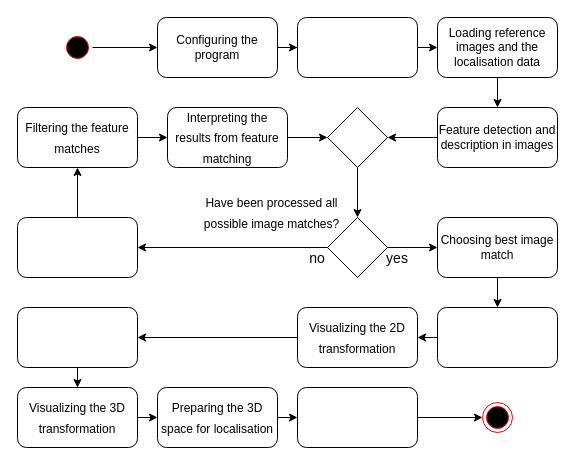
Image size: 575x465. Some labels were removed from this diagram. The centre of each missing label's shape, as x and y in pixels:
"Calculating 2D transformation" goes at point (497, 337).
"Calculating the 3D transformation" goes at point (77, 337).
"Calculating the global position" goes at point (357, 417).
"Loading scene image" goes at point (357, 47).
"Matching features of reference and scene image" goes at point (77, 247).
